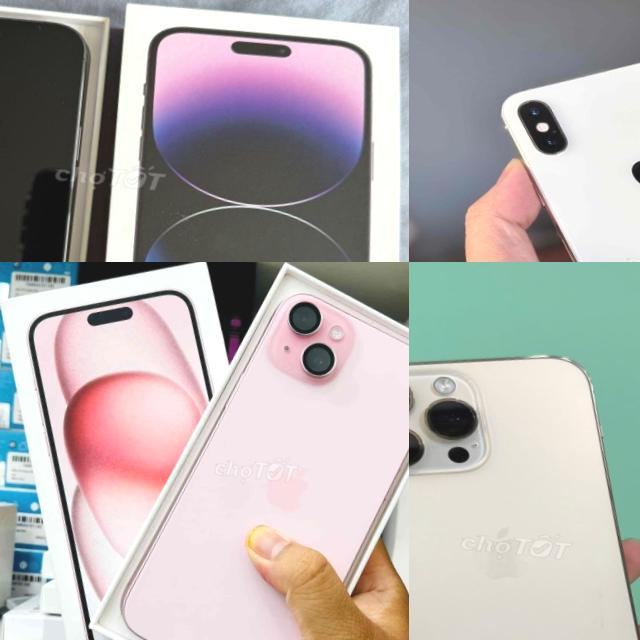gen_12_13: (102, 262, 409, 640)
gen_14: (409, 329, 640, 640), (0, 1, 101, 262)
gen_x_xs: (503, 62, 640, 262)
